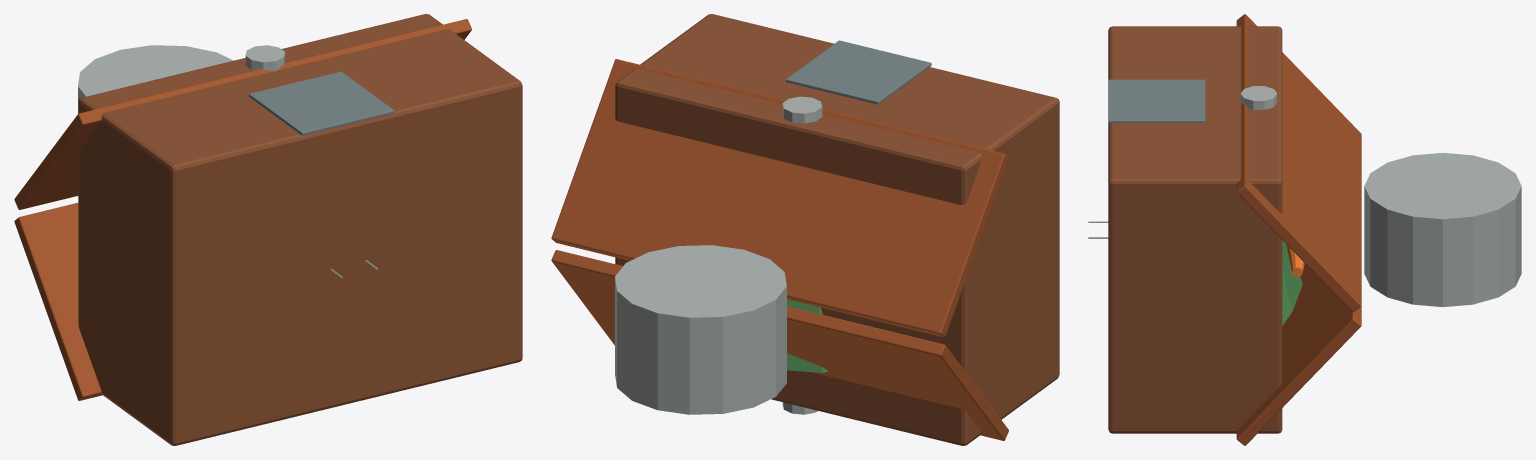
The model's file is pf_field_props.glb.
The picture shows the model from 3 angles, left to right: view 1: azimuth 30°, elevation 25°; view 2: azimuth 150°, elevation 25°; view 3: azimuth 270°, elevation 25°; orthographic projection. The views are drawn at different scales.
Visible parts, largest first — view 1: barn_body, barn_roof, barn_roof.001, barn_door, tower_tank, tower_column; view 2: barn_body, barn_roof.001, tower_tank, barn_roof, barn_door, tower_column, tree_crown; view 3: barn_body, tower_tank, barn_roof.001, barn_roof, barn_door, tree_crown, tower_column.
Boxes of the visible parts, x1=… form: barn_body: x1=78, y1=14, x2=522, y2=445; barn_roof: x1=14, y1=203, x2=102, y2=400; barn_roof.001: x1=14, y1=19, x2=471, y2=209; barn_door: x1=249, y1=71, x2=394, y2=135; tower_tank: x1=78, y1=45, x2=233, y2=113; tower_column: x1=245, y1=45, x2=285, y2=71; barn_body: x1=615, y1=14, x2=1059, y2=445; barn_roof.001: x1=551, y1=59, x2=1008, y2=337; tower_tank: x1=615, y1=245, x2=786, y2=414; barn_roof: x1=551, y1=250, x2=1008, y2=440; barn_door: x1=786, y1=40, x2=931, y2=104; tower_column: x1=782, y1=96, x2=822, y2=414; tree_crown: x1=787, y1=299, x2=828, y2=372; barn_body: x1=1108, y1=26, x2=1282, y2=433; tower_tank: x1=1364, y1=153, x2=1521, y2=306; barn_roof.001: x1=1236, y1=14, x2=1361, y2=312; barn_roof: x1=1236, y1=263, x2=1361, y2=445; barn_door: x1=1108, y1=79, x2=1205, y2=123; tree_crown: x1=1282, y1=240, x2=1302, y2=325; tower_column: x1=1240, y1=86, x2=1277, y2=109.
Bounding box in the file's own units: 12.2 × 9 × 12.95.
